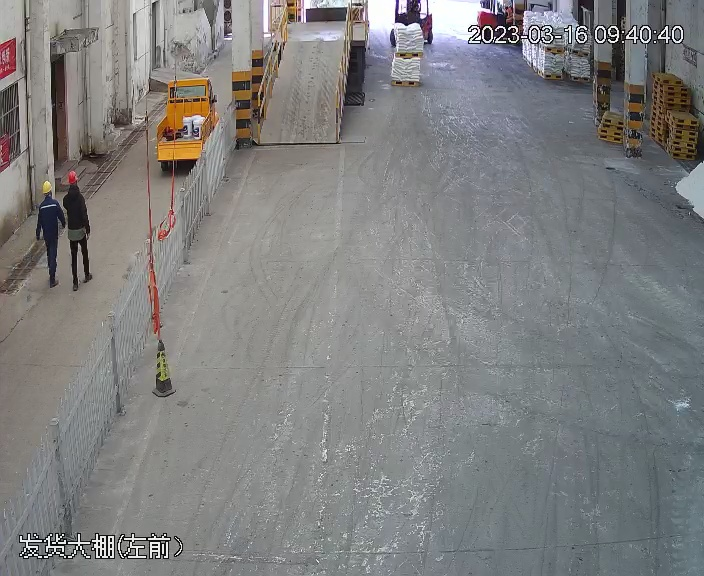head: (36, 180, 63, 213), (62, 171, 84, 206)
helmet: (41, 180, 54, 194), (66, 171, 79, 183)
people: (60, 167, 93, 287), (33, 177, 68, 288)
